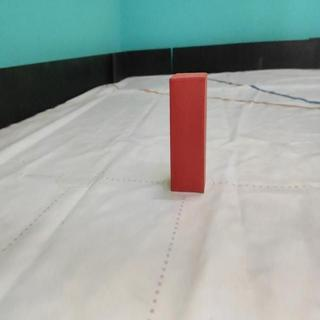redbox: (169, 71, 206, 193)
